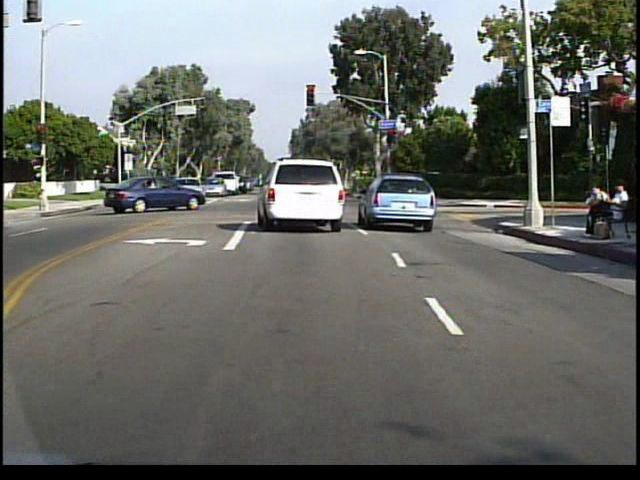person: (599, 178, 630, 243), (580, 179, 612, 238)
